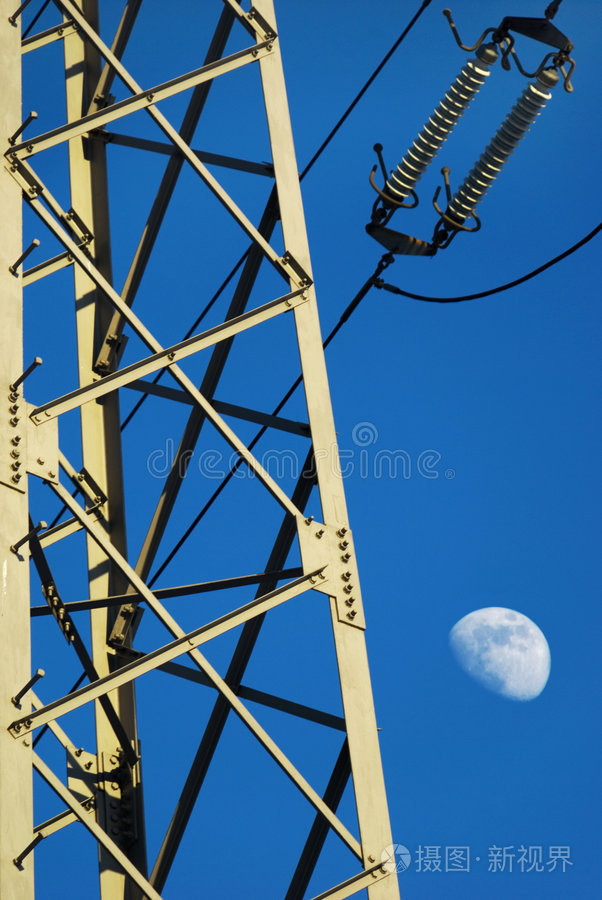insulator: (390, 54, 488, 200), (449, 83, 548, 221)
